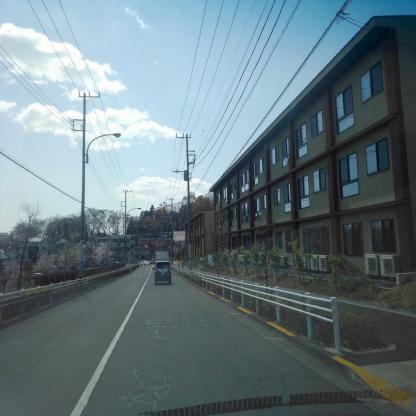Someiyoshino: (29, 239, 114, 278), (0, 254, 28, 297)
